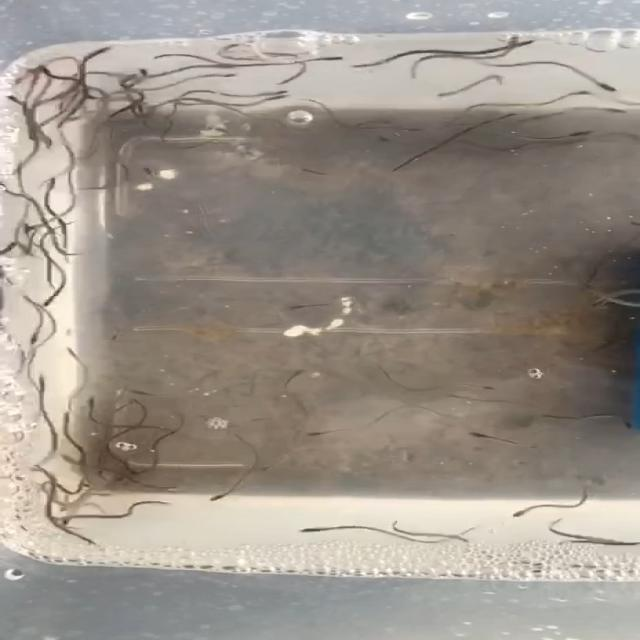inactive_glass_eel: (585, 77, 629, 95), (114, 463, 152, 481), (509, 36, 549, 52), (103, 472, 142, 488), (32, 373, 63, 393), (391, 120, 435, 134), (83, 40, 121, 56), (292, 522, 335, 536), (277, 301, 319, 315), (602, 101, 632, 120), (555, 127, 595, 141), (47, 514, 89, 526), (615, 416, 640, 436), (29, 63, 62, 78), (309, 52, 350, 64), (32, 462, 59, 480), (238, 93, 298, 101), (83, 392, 107, 412), (0, 237, 19, 262), (54, 410, 80, 428), (108, 70, 146, 82), (121, 383, 156, 396), (208, 71, 253, 81), (476, 379, 506, 394), (284, 364, 312, 380), (200, 492, 235, 504), (434, 87, 460, 103), (492, 106, 518, 122), (243, 88, 302, 95), (22, 331, 46, 348), (302, 427, 333, 440), (21, 225, 43, 243), (508, 510, 544, 521), (570, 87, 598, 101), (31, 135, 61, 148), (33, 292, 60, 306), (461, 429, 488, 442), (148, 51, 182, 61), (496, 34, 522, 47), (10, 158, 29, 175), (48, 177, 68, 193), (131, 65, 156, 77), (54, 346, 84, 356), (389, 519, 408, 534), (4, 92, 24, 106), (70, 480, 98, 490), (55, 455, 84, 463)
